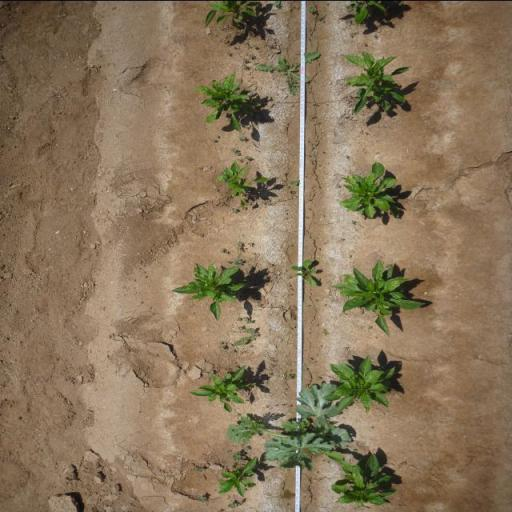plant: (330, 259, 427, 335), (340, 50, 414, 115), (324, 353, 397, 415), (170, 262, 250, 316), (192, 71, 261, 132), (330, 455, 399, 510), (338, 160, 402, 218), (186, 363, 258, 413), (214, 160, 276, 206), (216, 458, 260, 496), (203, 0, 261, 27), (344, 0, 389, 26)
weed: (225, 380, 359, 475), (255, 51, 321, 94), (290, 258, 318, 286), (233, 328, 259, 346), (226, 500, 244, 508), (232, 450, 246, 460), (196, 492, 207, 502), (242, 315, 254, 324), (232, 257, 244, 265), (287, 178, 300, 185), (286, 189, 297, 197), (192, 466, 206, 472), (238, 134, 248, 142), (235, 241, 243, 251), (320, 327, 330, 335), (308, 3, 316, 12), (231, 147, 240, 155), (218, 248, 230, 254), (262, 274, 270, 282), (244, 154, 253, 160), (248, 52, 256, 58), (308, 114, 316, 120), (218, 344, 226, 350), (286, 373, 294, 379), (231, 207, 238, 213), (242, 57, 250, 62), (226, 50, 232, 56), (372, 32, 378, 38), (310, 158, 316, 164), (237, 324, 243, 330), (367, 324, 373, 330), (256, 302, 263, 307), (248, 265, 256, 269), (385, 263, 393, 267), (242, 63, 248, 68), (312, 101, 318, 106), (335, 182, 340, 188), (210, 137, 216, 142), (247, 241, 253, 246), (208, 370, 214, 375), (344, 345, 350, 350), (345, 153, 350, 158), (351, 219, 356, 224), (267, 200, 272, 205), (252, 44, 258, 48), (262, 200, 267, 204), (340, 237, 345, 241), (236, 317, 241, 321), (236, 412, 240, 417), (290, 317, 296, 320), (363, 42, 367, 46), (232, 45, 237, 48), (215, 134, 220, 137), (237, 158, 242, 161), (226, 260, 232, 262), (230, 350, 236, 352), (303, 368, 308, 370)
